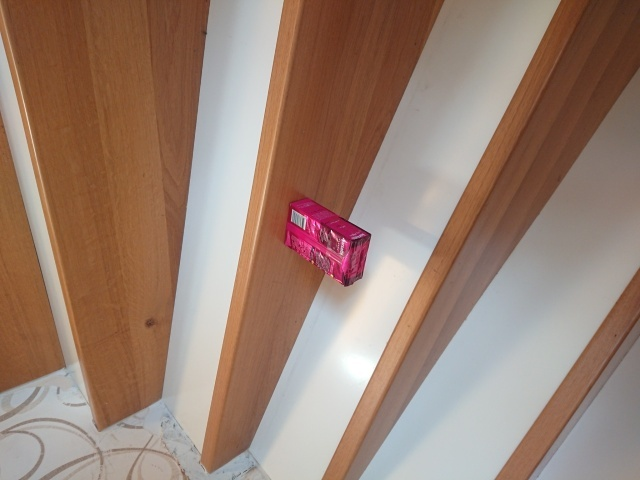Barcaffe Classic Original 225g: (281, 195, 374, 289)
